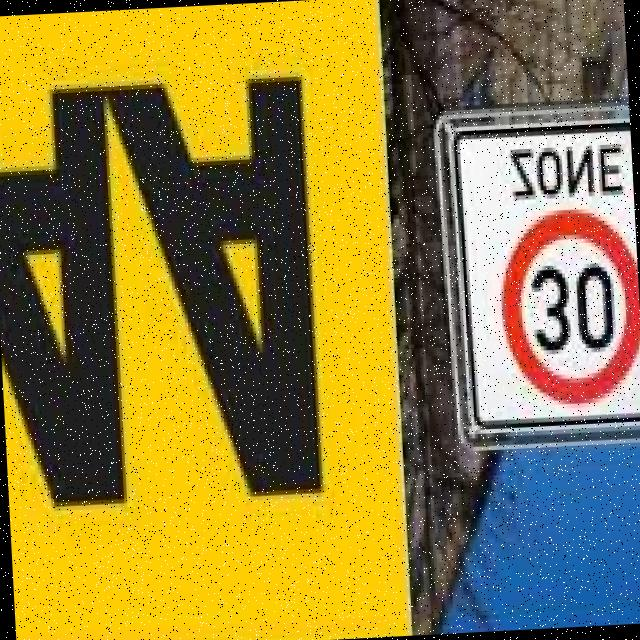speed_limit_30: (497, 202, 640, 415)
